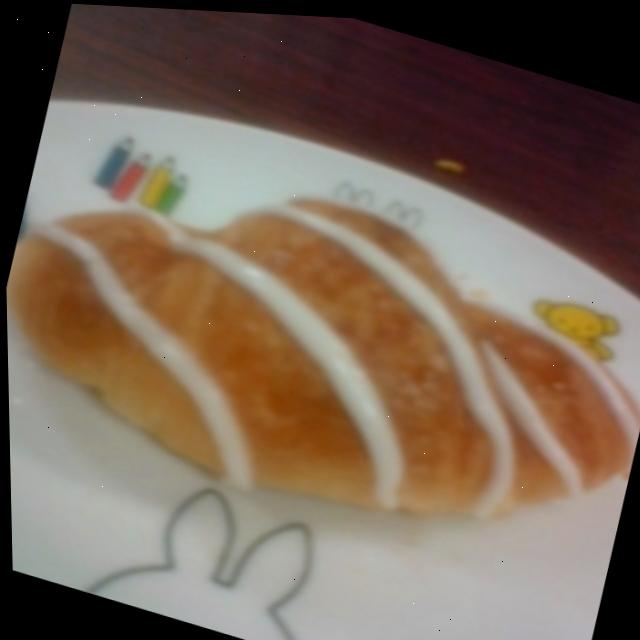面包点心: (1, 57, 640, 640)
